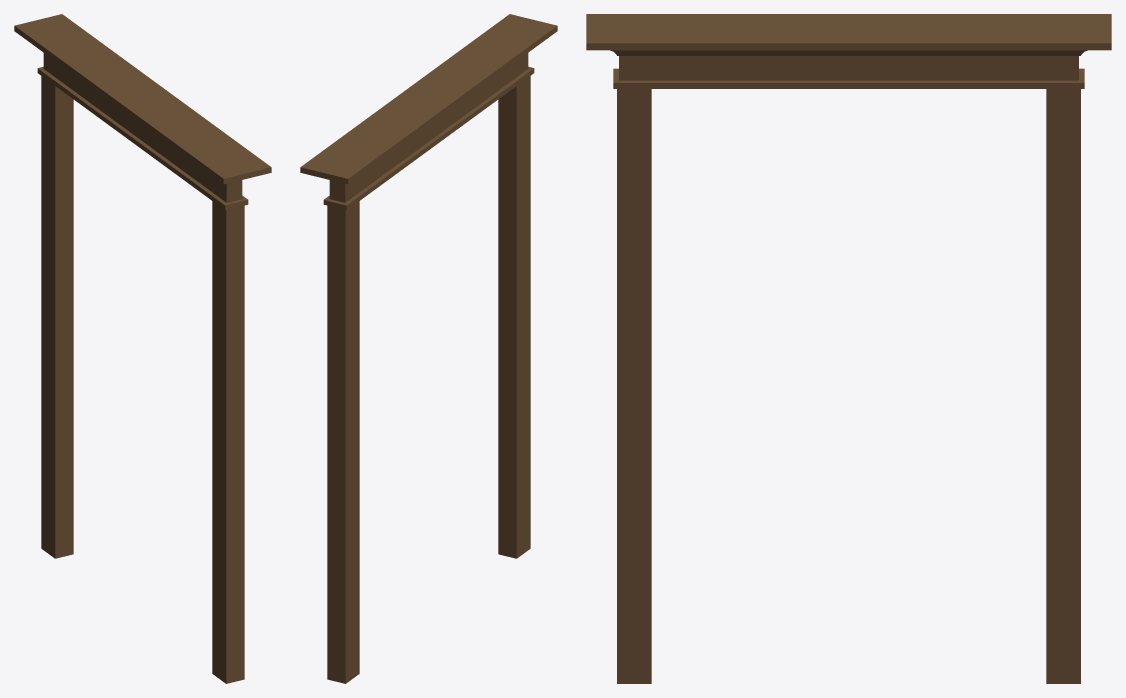
Rendered from SM_DoorFrame_001.fbx.
3 renders of one model, left to right at view 1: azimuth 30°, elevation 25°; view 2: azimuth 150°, elevation 25°; view 3: azimuth 270°, elevation 25°, orthographic. The views are drawn at different scales.
Parts seen in each view (by area): view 1: group44_pCube87; view 2: group44_pCube87; view 3: group44_pCube87.
Boxes of the visible parts, box(x1,y1,x2,y2) form: group44_pCube87: box(14, 14, 271, 683); group44_pCube87: box(300, 14, 557, 683); group44_pCube87: box(586, 14, 1111, 683).
Bounding box in the file's own units: 24.3 × 251 × 184.
